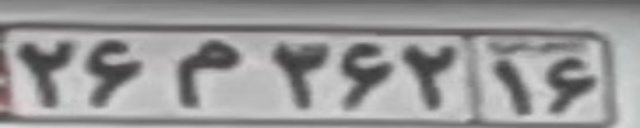1: (491, 57, 531, 115)
2: (18, 38, 73, 108), (404, 41, 458, 109)
3: (273, 39, 330, 108)
6: (82, 38, 148, 106), (333, 41, 393, 108), (543, 55, 598, 114)
mim: (172, 38, 249, 106)
